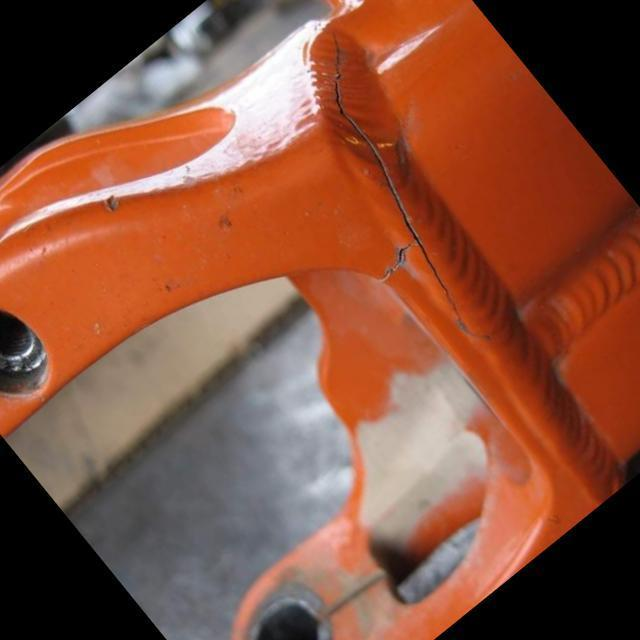defect: (315, 25, 494, 344)
